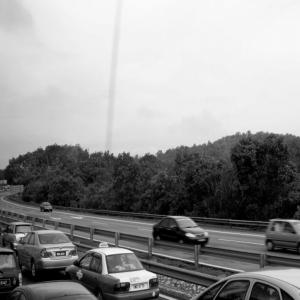Vehicle-registration-plate: (134, 284, 148, 292), (1, 279, 12, 287), (58, 253, 67, 258), (199, 238, 206, 242)
